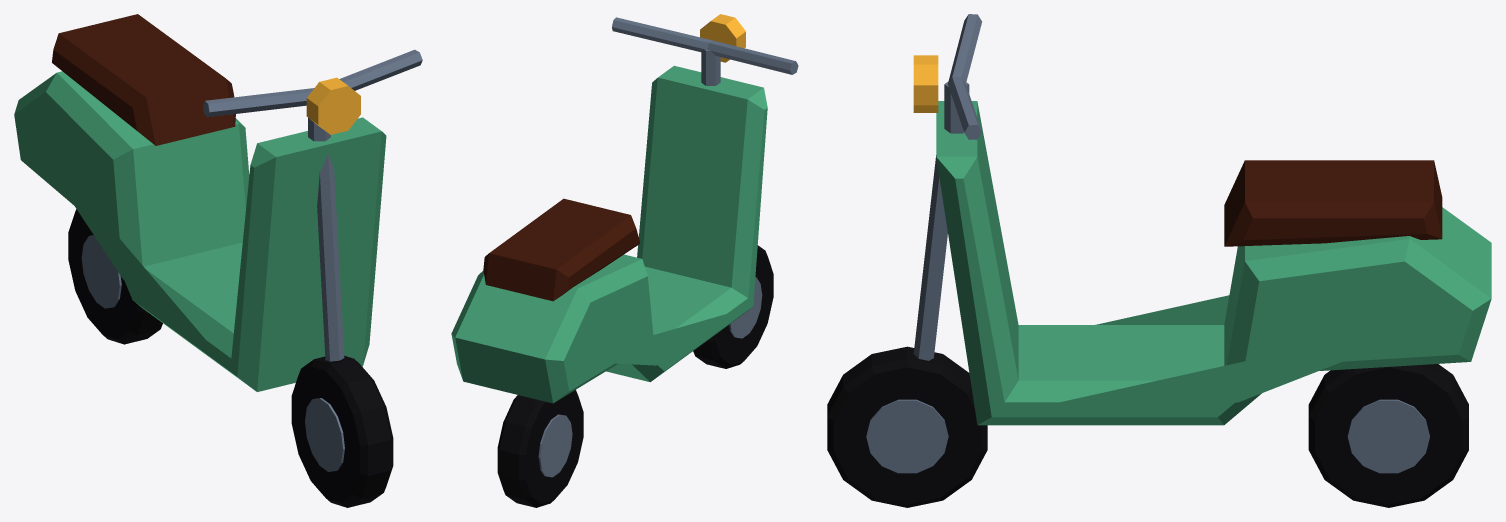
The model's file is pq_scooter.obj.
3 views of the same model, side by side, from view 1: azimuth 30°, elevation 25°; view 2: azimuth 150°, elevation 25°; view 3: azimuth 270°, elevation 25° (orthographic). The views are drawn at different scales.
Visible parts, largest first — view 1: Scooter body, Scooter seat, Scooter wheels, Scooter bars, Scooter wheels_1, Scooter headlight; view 2: Scooter body, Scooter seat, Scooter wheels, Scooter bars, Scooter wheels_1, Scooter headlight; view 3: Scooter body, Scooter wheels, Scooter seat, Scooter wheels_1, Scooter bars, Scooter headlight.
Boxes of the visible parts, x1=… form: Scooter body: x1=14, y1=71, x2=386, y2=391; Scooter seat: x1=52, y1=14, x2=235, y2=145; Scooter wheels: x1=68, y1=209, x2=393, y2=507; Scooter bars: x1=203, y1=49, x2=422, y2=361; Scooter wheels_1: x1=81, y1=235, x2=344, y2=471; Scooter headlight: x1=306, y1=77, x2=360, y2=134; Scooter body: x1=451, y1=65, x2=767, y2=403; Scooter seat: x1=483, y1=198, x2=639, y2=301; Scooter wheels: x1=497, y1=245, x2=773, y2=507; Scooter bars: x1=612, y1=17, x2=798, y2=85; Scooter wheels_1: x1=538, y1=277, x2=762, y2=477; Scooter headlight: x1=700, y1=14, x2=745, y2=62; Scooter body: x1=936, y1=101, x2=1491, y2=425; Scooter wheels: x1=827, y1=346, x2=1468, y2=507; Scooter seat: x1=1224, y1=160, x2=1442, y2=246; Scooter wheels_1: x1=866, y1=399, x2=1429, y2=473; Scooter bars: x1=913, y1=14, x2=982, y2=360; Scooter headlight: x1=913, y1=55, x2=938, y2=112.
Bounding box in the file's own units: 0.6454 × 1.18 × 1.61.
